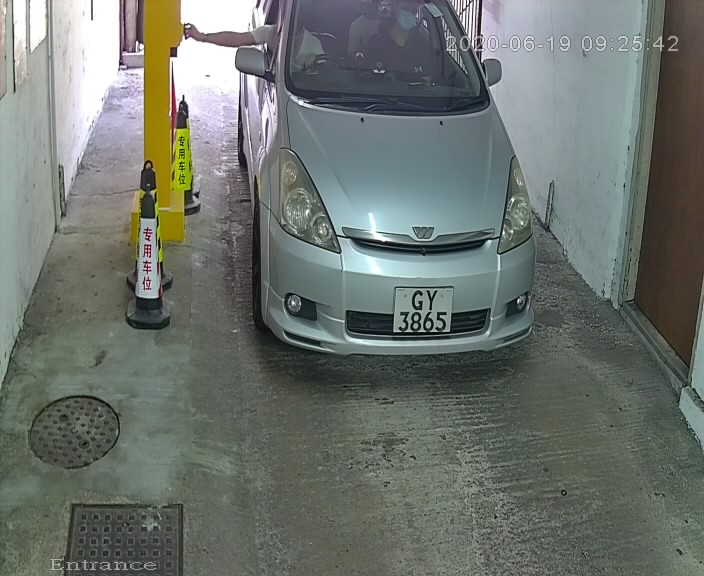privatecar: (232, 3, 559, 371)
